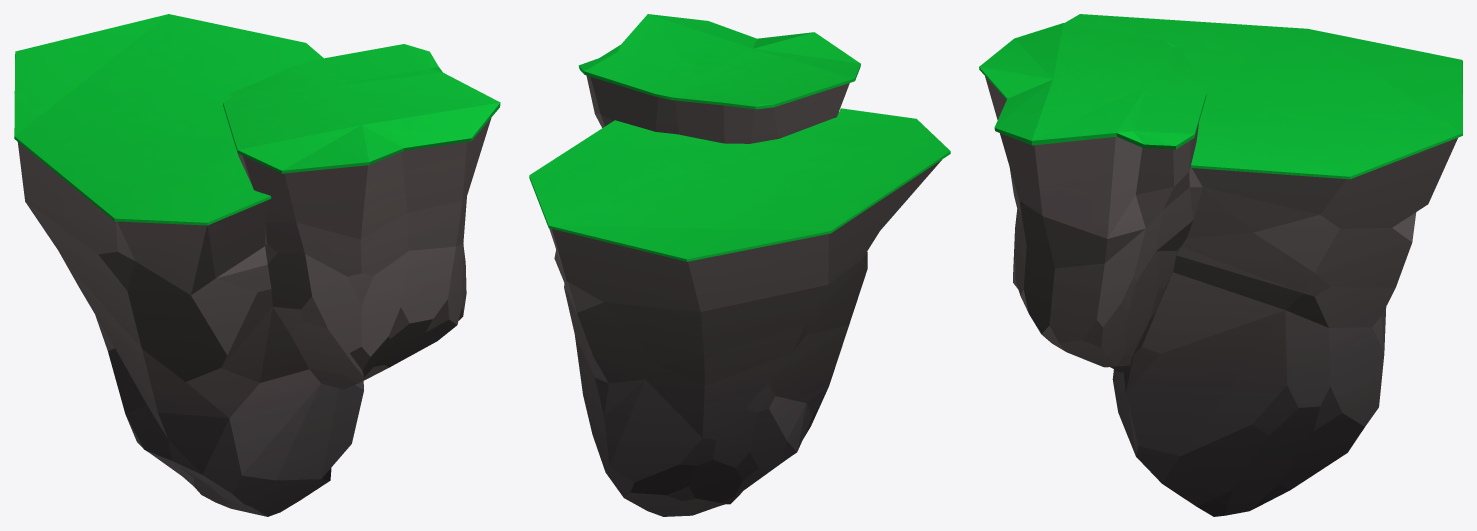
Rendered from Island_3.fbx.
3 renders of one model, left to right at view 1: azimuth 30°, elevation 25°; view 2: azimuth 150°, elevation 25°; view 3: azimuth 270°, elevation 25°, orthographic. The views are drawn at different scales.
Visible parts, largest first — view 1: Island_3; view 2: Island_3; view 3: Island_3.
Part boxes in pixels (x1,y1,x2,y2): Island_3: (14, 14, 500, 516); Island_3: (529, 14, 950, 516); Island_3: (979, 14, 1462, 516).
Bounding box in the file's own units: 7.91 × 9.28 × 9.23.
